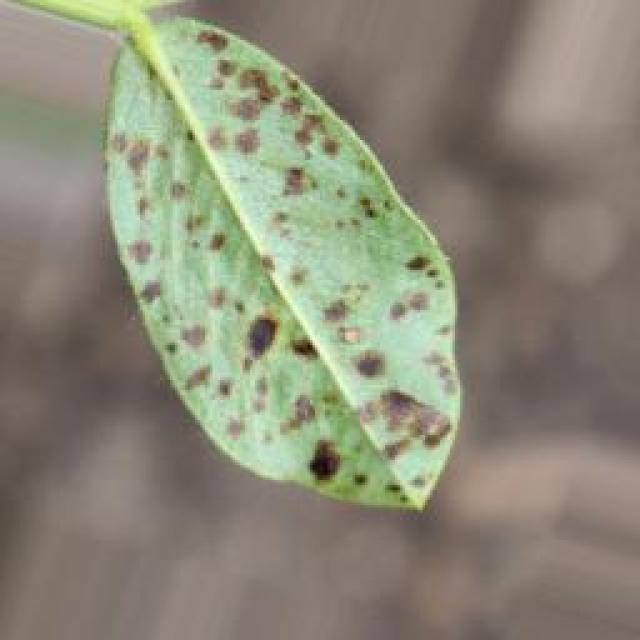Whitefly: (95, 0, 485, 515)
